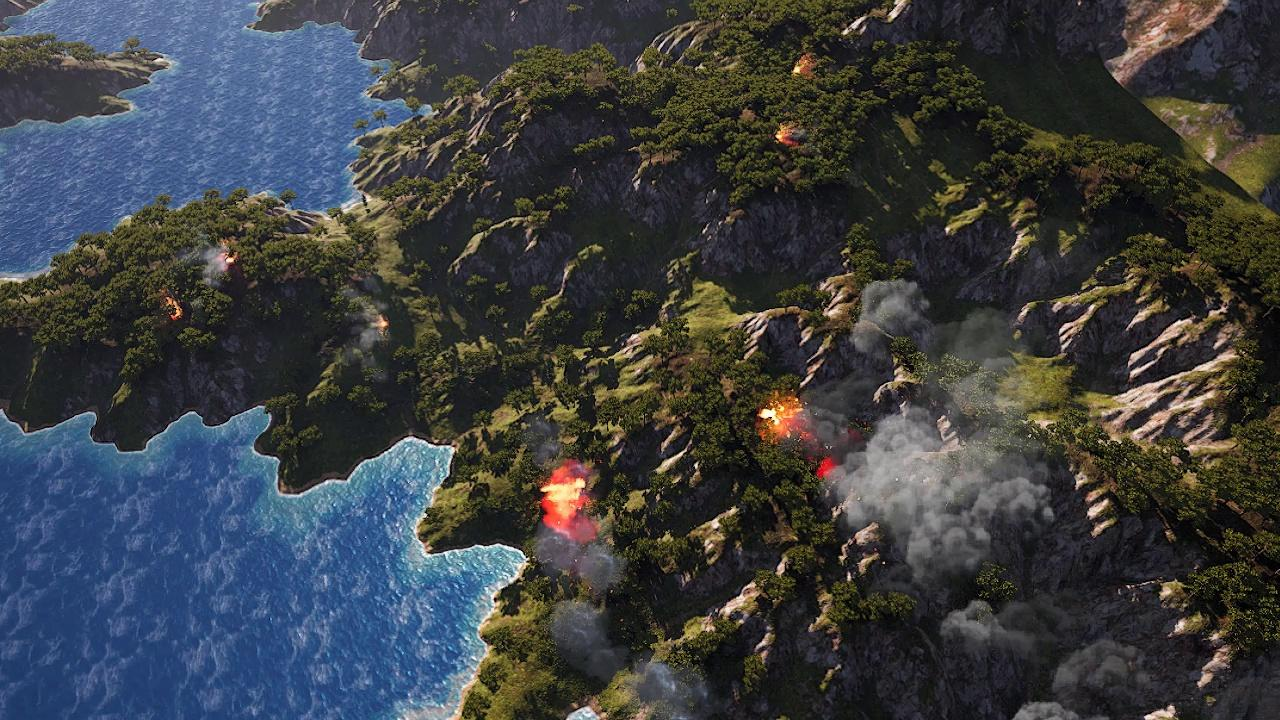fire: (543, 468, 592, 524), (773, 127, 802, 152), (165, 292, 187, 320), (789, 58, 814, 80), (219, 253, 240, 267), (375, 315, 392, 332), (761, 408, 780, 420)
smoke: (783, 274, 1158, 720), (517, 413, 710, 720), (350, 292, 396, 381), (185, 238, 237, 288)
